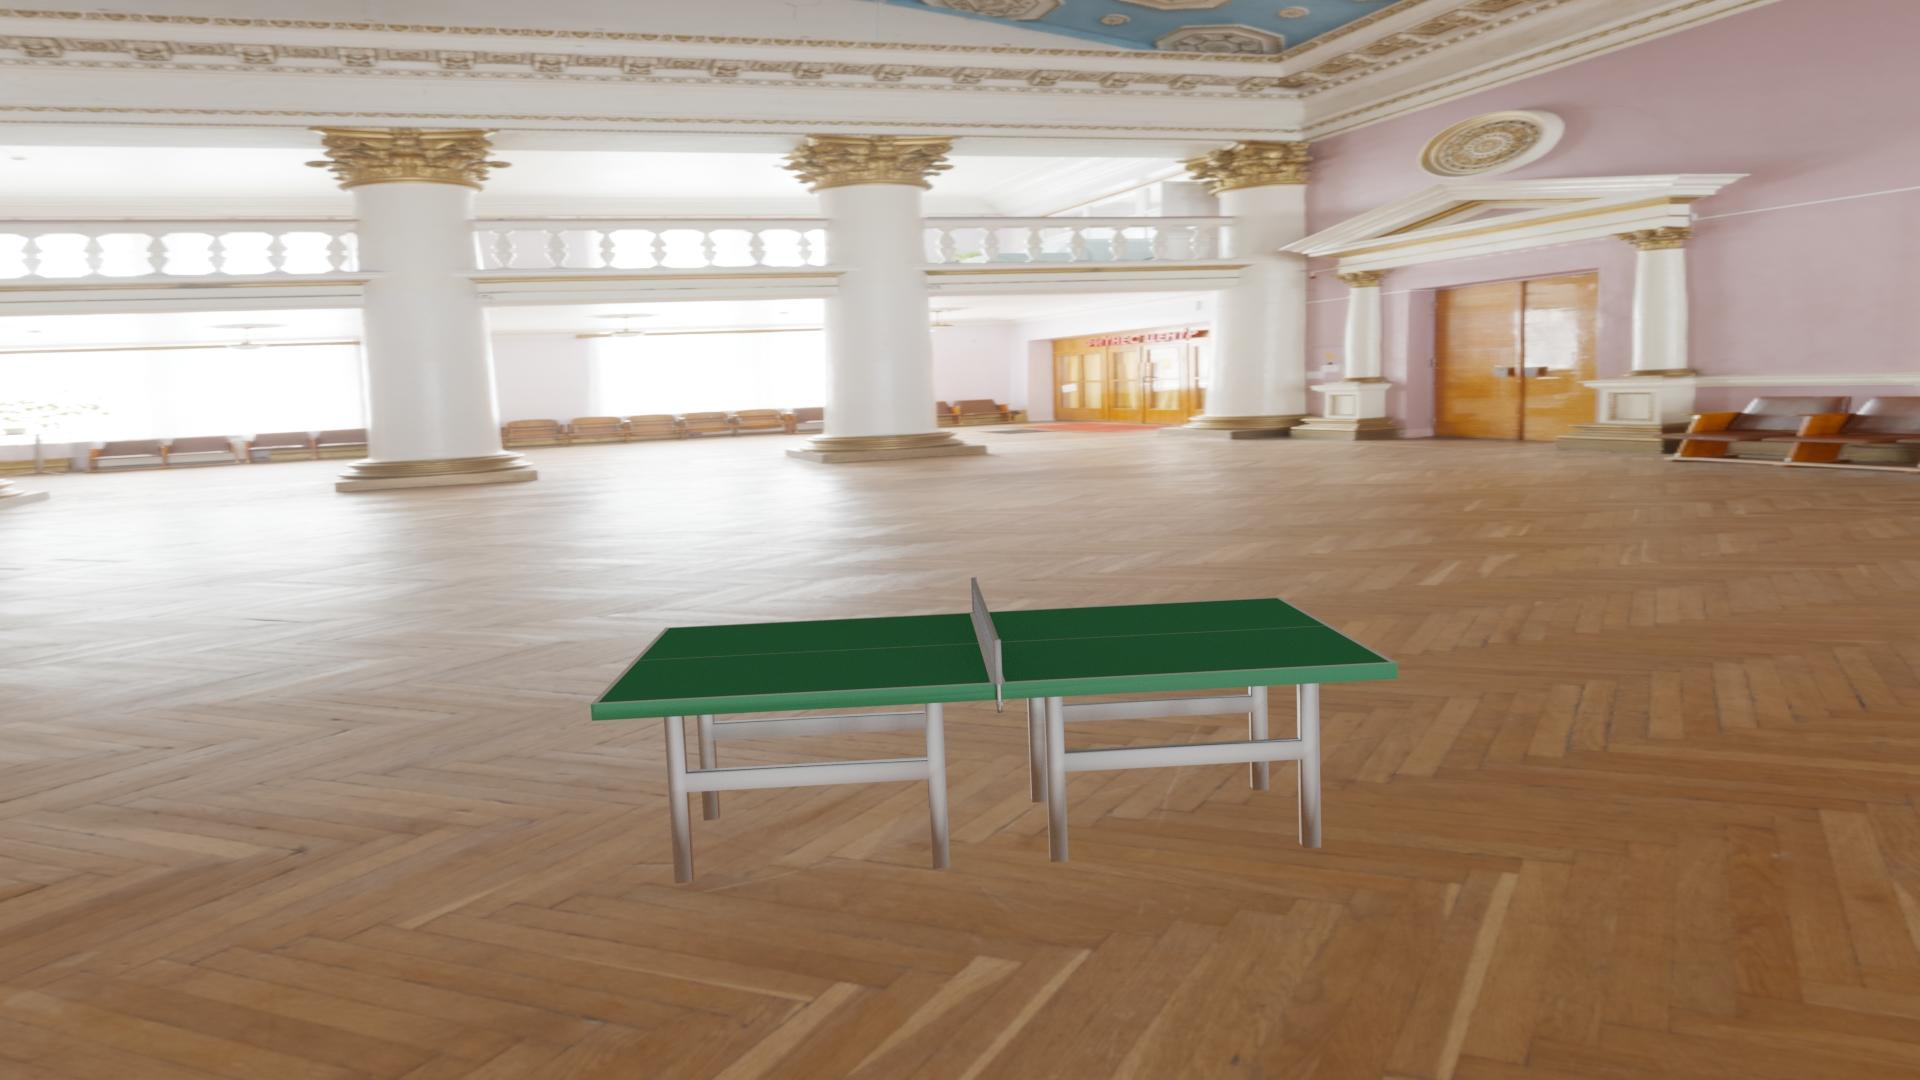table: (597, 597, 1390, 703)
